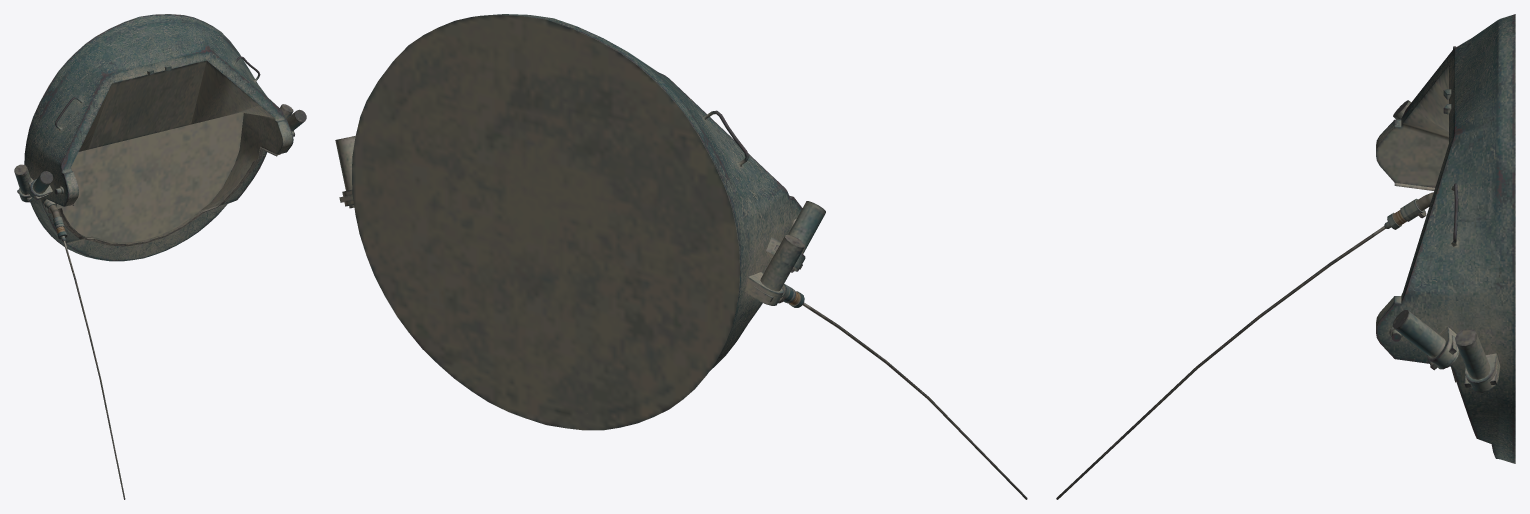
Rendered from Turret_01.glb.
3 renders of one model, left to right at view 1: azimuth 30°, elevation 25°; view 2: azimuth 150°, elevation 25°; view 3: azimuth 270°, elevation 25°, orthographic. The views are drawn at different scales.
Visible parts, largest first — view 1: set_0_group_0; view 2: set_0_group_0; view 3: set_0_group_0.
Boxes of the visible parts, x1,y1,x2,y2 form: set_0_group_0: (14, 14, 306, 499); set_0_group_0: (335, 14, 1027, 499); set_0_group_0: (1056, 14, 1515, 499).
Size of the model in its own units: 2.15 by 2.47 by 1.75.
Materials: 1 (1 with a texture image).
